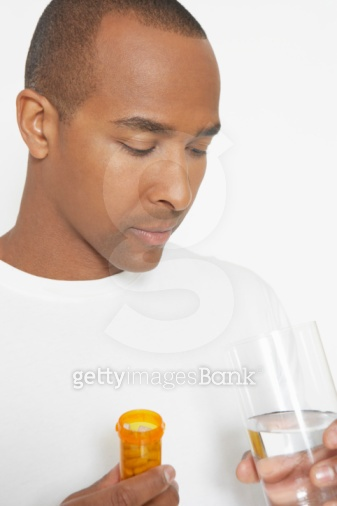glass of water: (225, 320, 337, 492)
